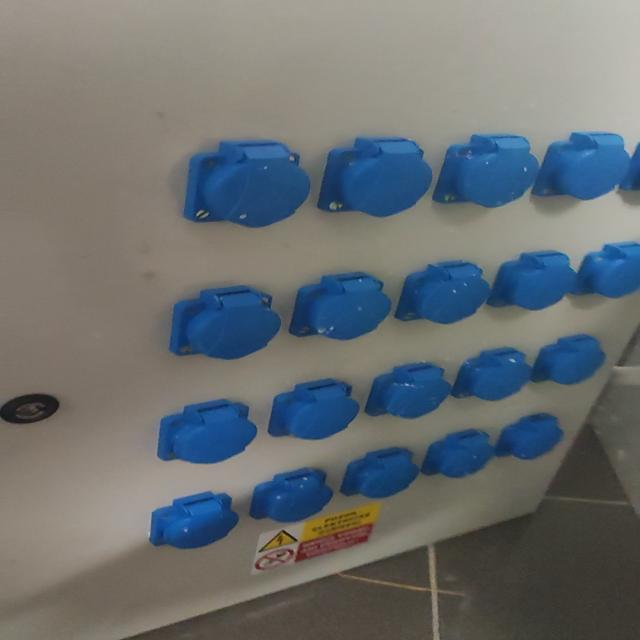house plug covered: (182, 141, 311, 230), (321, 138, 435, 221), (168, 288, 280, 362), (433, 134, 540, 209), (288, 271, 392, 340), (531, 132, 631, 202), (156, 399, 258, 464), (392, 263, 492, 325), (267, 379, 360, 440), (486, 250, 576, 311), (149, 493, 239, 552), (364, 361, 451, 419), (249, 469, 333, 523), (451, 346, 532, 401), (570, 240, 640, 300), (340, 447, 420, 498), (530, 334, 606, 385), (421, 428, 494, 478), (496, 414, 567, 462)
